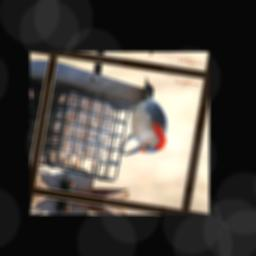Woodpecker: (113, 74, 177, 161)
